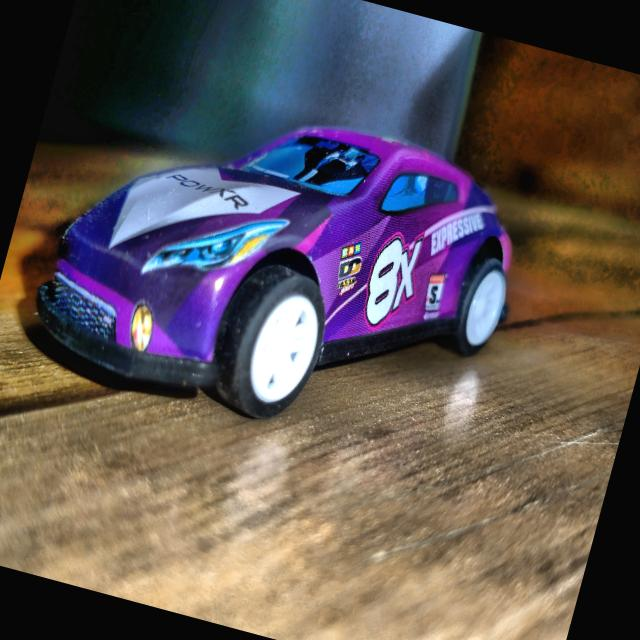Car: (21, 62, 540, 474)
